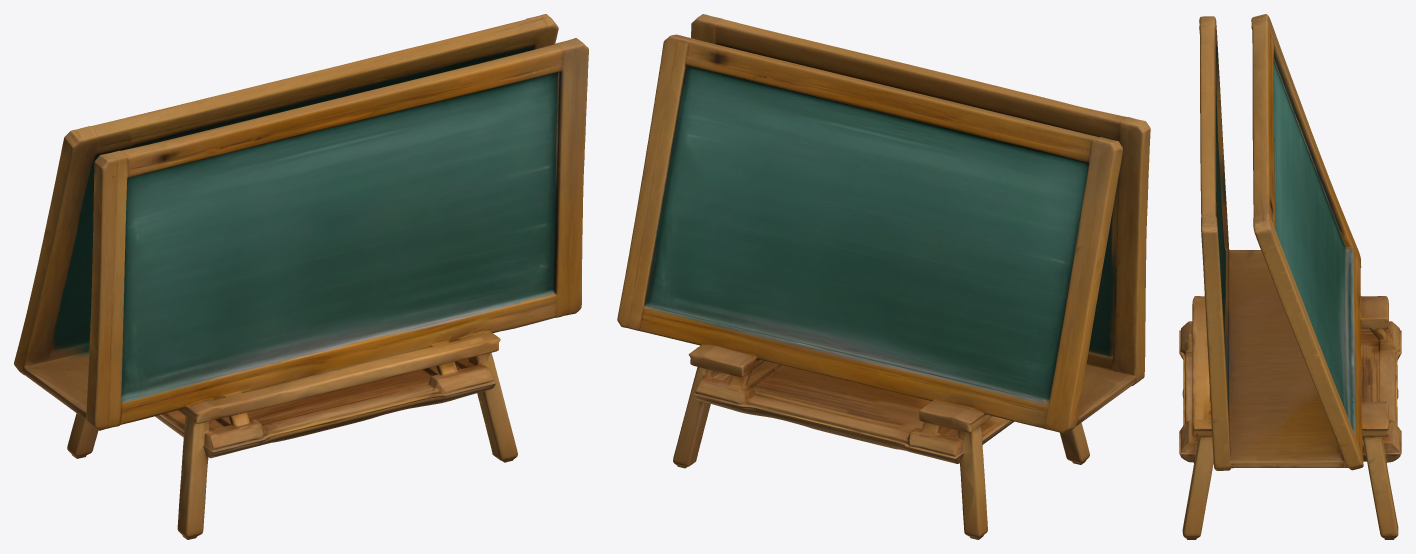
The model's file is chalkboard.glb.
The picture shows the model from 3 angles, left to right: view 1: azimuth 30°, elevation 25°; view 2: azimuth 150°, elevation 25°; view 3: azimuth 270°, elevation 25°; orthographic projection. The views are drawn at different scales.
Visible parts, largest first — view 1: node_0; view 2: node_0; view 3: node_0.
Part boxes in pixels (x1,y1,x2,y2): node_0: [14, 14, 588, 539]; node_0: [617, 14, 1150, 539]; node_0: [1179, 14, 1401, 539].
Bounding box in the file's own units: 0.9325 × 0.7199 × 0.4116.
1 material, 1 textured.
